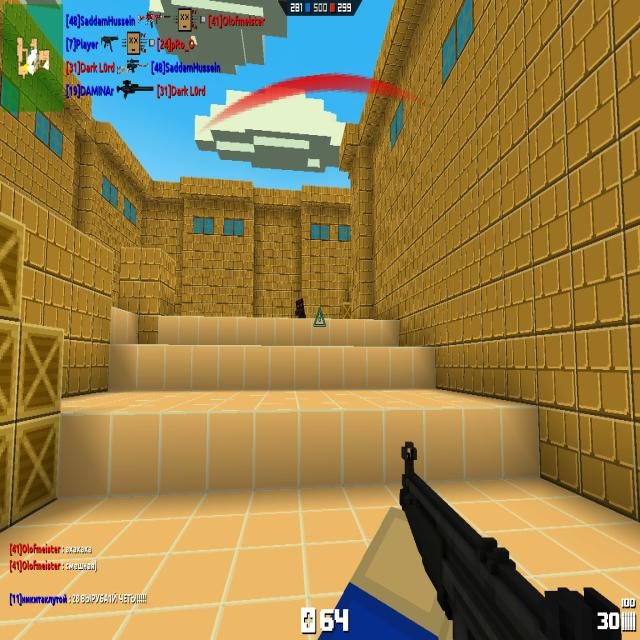enemy: (295, 298, 306, 318)
